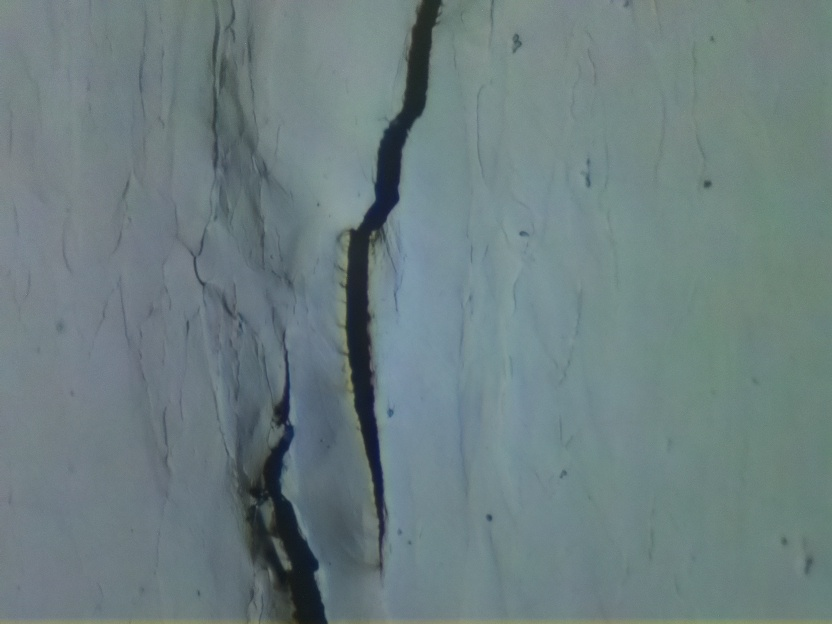crack: (345, 0, 447, 577), (246, 329, 331, 624)
